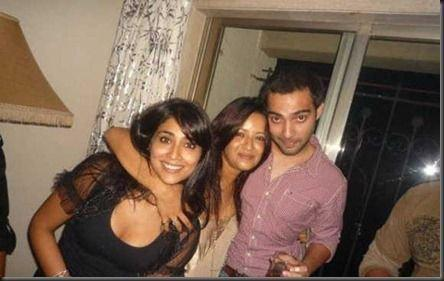Drunk: (150, 122, 198, 181), (267, 93, 315, 151), (225, 113, 265, 167)
